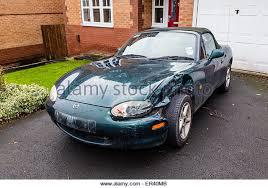fender-dent: (149, 75, 200, 105)
